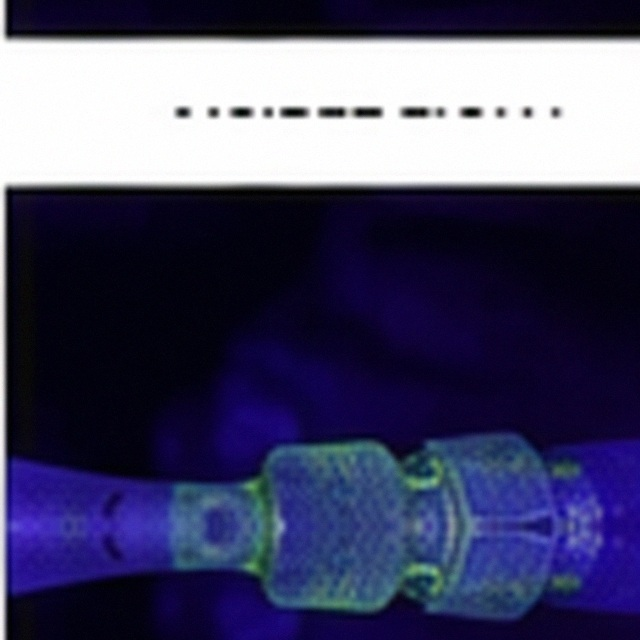hydraulic_oil_leak: (306, 444, 457, 492), (242, 472, 275, 580), (386, 561, 444, 593), (307, 580, 356, 601), (556, 464, 575, 473), (407, 456, 417, 463), (464, 521, 468, 531), (184, 560, 188, 564), (181, 488, 188, 490)
